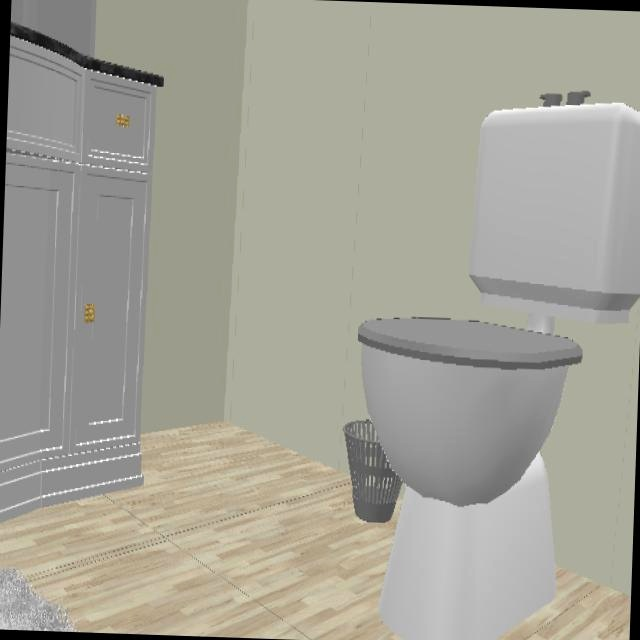cabinet: (0, 24, 161, 521)
toilet: (358, 102, 640, 640)
